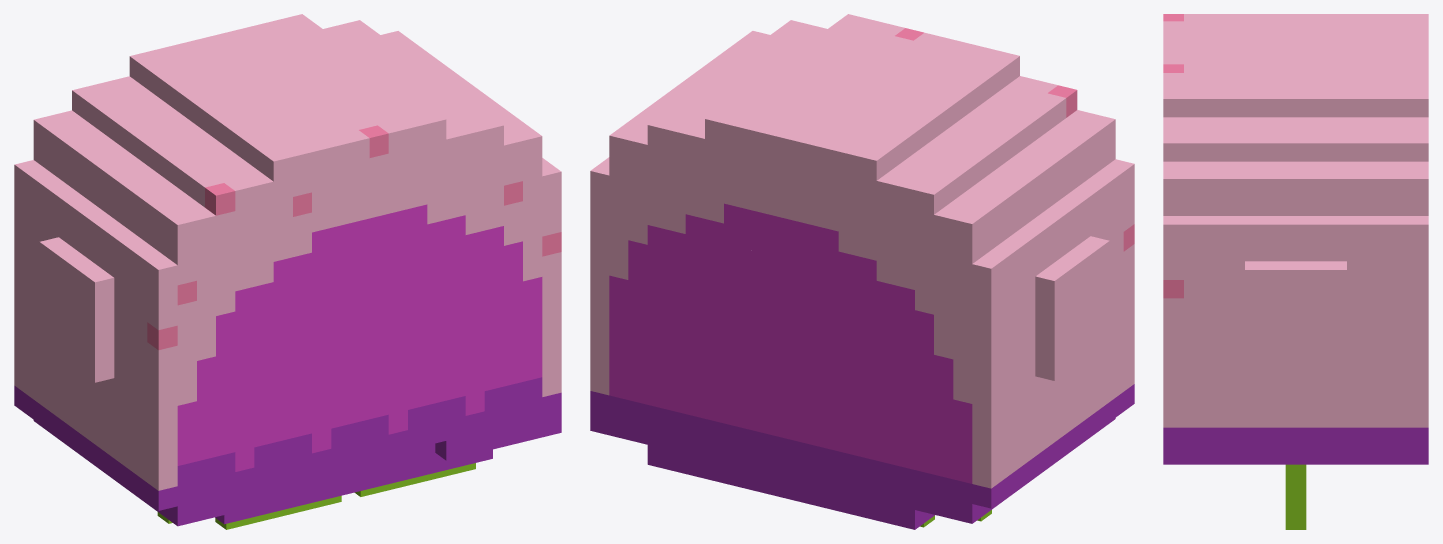
Rendered from jellyfish.glb.
3 views of the same model, side by side, from view 1: azimuth 30°, elevation 25°; view 2: azimuth 150°, elevation 25°; view 3: azimuth 270°, elevation 25° (orthographic). The views are drawn at different scales.
Visible parts, largest first — view 1: base, glasses; view 2: base; view 3: base, glasses.
Part boxes in pixels (x1=…): base: x1=14, y1=14, x2=561, y2=526; glasses: x1=157, y1=463, x2=475, y2=529; base: x1=590, y1=14, x2=1134, y2=529; base: x1=1163, y1=14, x2=1428, y2=464; glasses: x1=1285, y1=464, x2=1306, y2=529.
Bounding box in the file's own units: 23 × 21 × 13.
10 materials, 10 textured.
